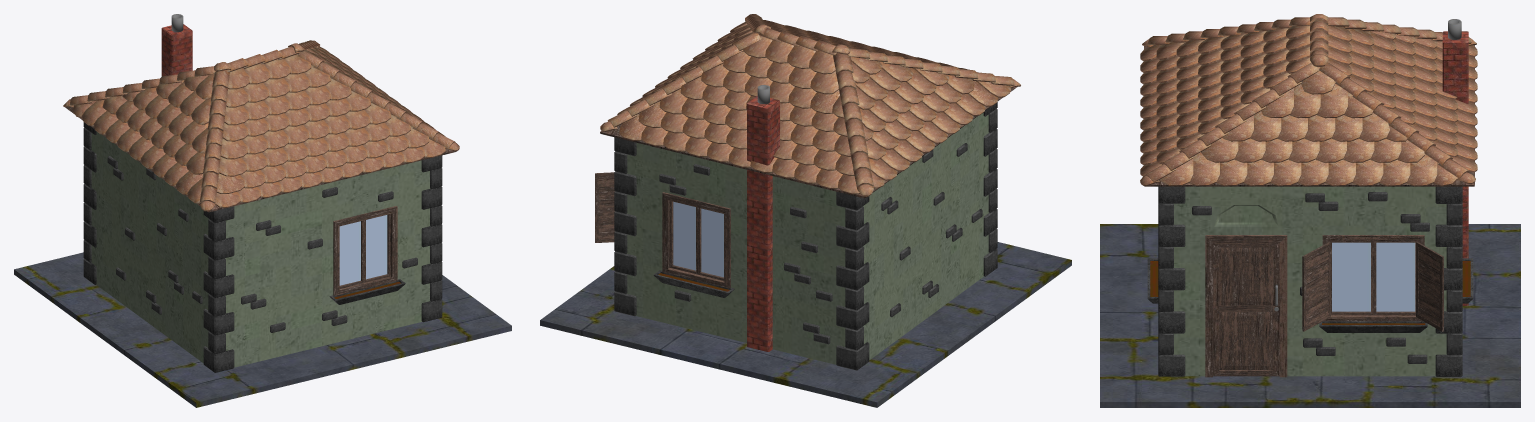
Rendered from House 1.fbx.
The picture shows the model from 3 angles, left to right: view 1: azimuth 30°, elevation 25°; view 2: azimuth 150°, elevation 25°; view 3: azimuth 270°, elevation 25°; orthographic projection. The views are drawn at different scales.
Visible parts, largest first — view 1: house; view 2: house; view 3: house, door.
Part boxes in pixels (x1,y1,x2,y2): house: [14, 14, 511, 407]; house: [540, 14, 1071, 407]; house: [1100, 14, 1520, 407]; door: [1213, 243, 1279, 376].
Bounding box in the file's own units: 282 × 210 × 282.
1 material, 1 textured.
